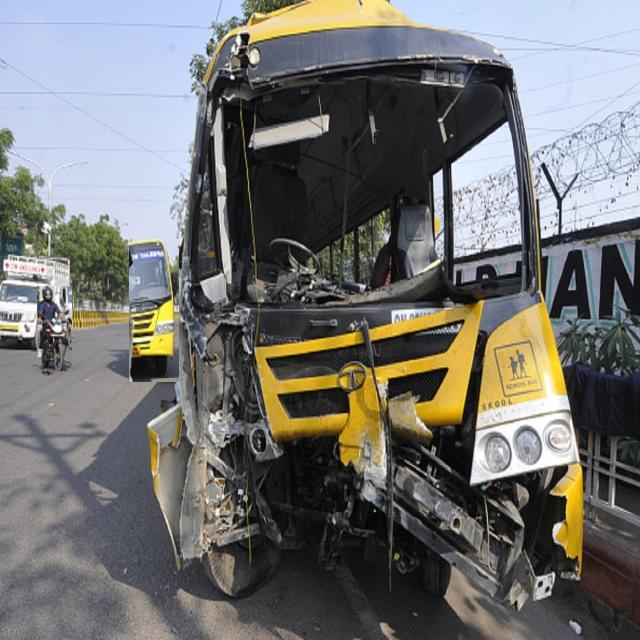accident: (147, 0, 587, 612)
bus: (130, 240, 179, 382)
motorcycle: (37, 286, 72, 371)
truck: (0, 255, 70, 348)
